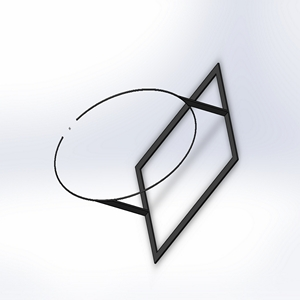circle: (52, 58, 242, 264)
